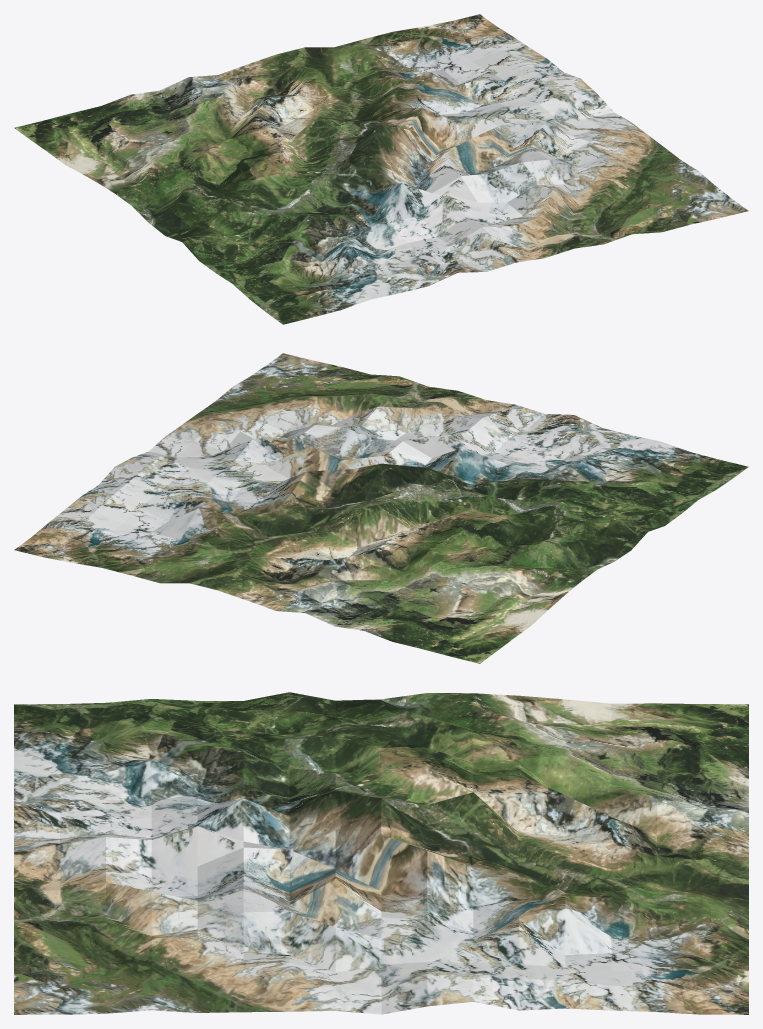
3 views of the same model, one above another, from view 1: azimuth 30°, elevation 25°; view 2: azimuth 150°, elevation 25°; view 3: azimuth 270°, elevation 25° (orthographic). The views are drawn at different scales.
Visible parts, largest first — view 1: Map; view 2: Map; view 3: Map.
Boxes of the visible parts, x1,y1,x2,y2 form: Map: (14,14,748,324); Map: (14,353,748,663); Map: (14,692,748,1014).
Bounding box in the file's own units: 2 × 0.1841 × 2.
1 material, 1 textured.
